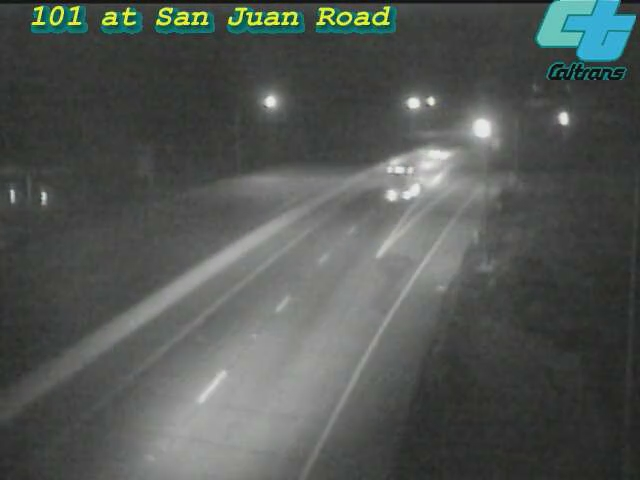vehicle: (360, 146, 440, 226), (461, 103, 511, 153), (538, 93, 588, 143), (420, 125, 470, 175), (395, 135, 445, 185)
